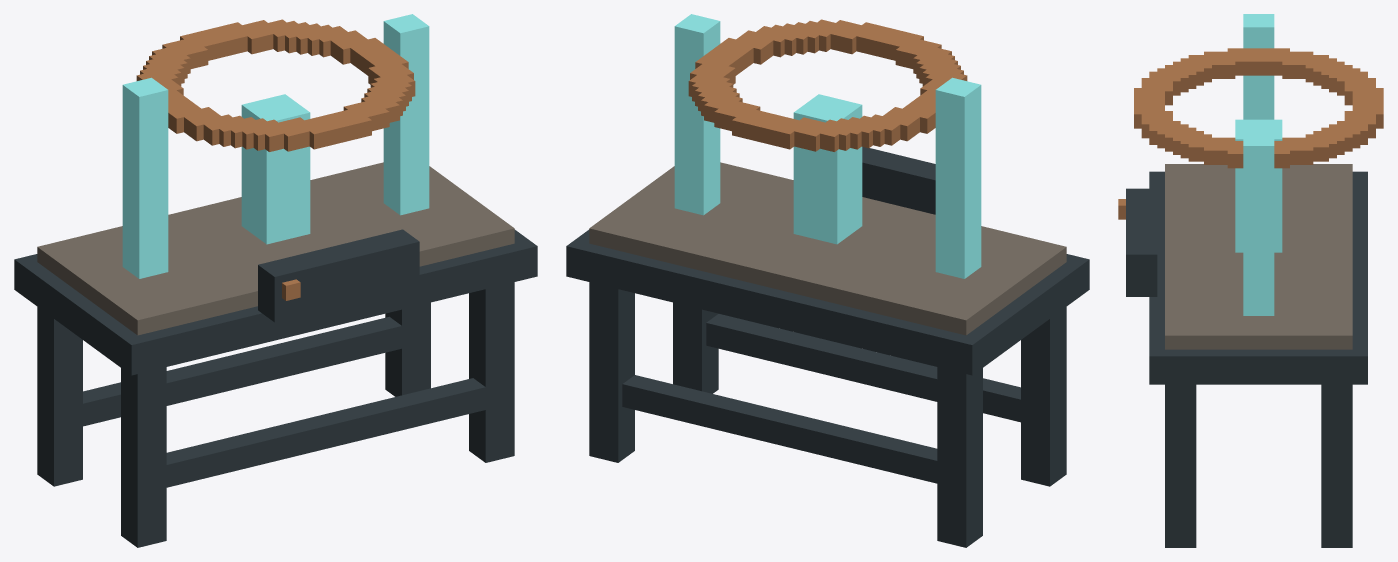
File: arcane_bench.glb
3 views of the same model, side by side, from view 1: azimuth 30°, elevation 25°; view 2: azimuth 150°, elevation 25°; view 3: azimuth 270°, elevation 25° (orthographic). The views are drawn at different scales.
Visible parts, largest first — view 1: arcane_bench/work_surface, arcane_bench/frame; view 2: arcane_bench/work_surface, arcane_bench/frame; view 3: arcane_bench/work_surface, arcane_bench/frame.
Boxes of the visible parts, x1,y1,x2,y2 form: arcane_bench/work_surface: (37,14,514,335); arcane_bench/frame: (14,229,537,547); arcane_bench/work_surface: (589,14,1066,335); arcane_bench/frame: (566,229,1089,547); arcane_bench/work_surface: (1118,14,1383,349); arcane_bench/frame: (1149,171,1367,547).
Bounding box in the file's own units: 1.75 × 1.69 × 1.06.
